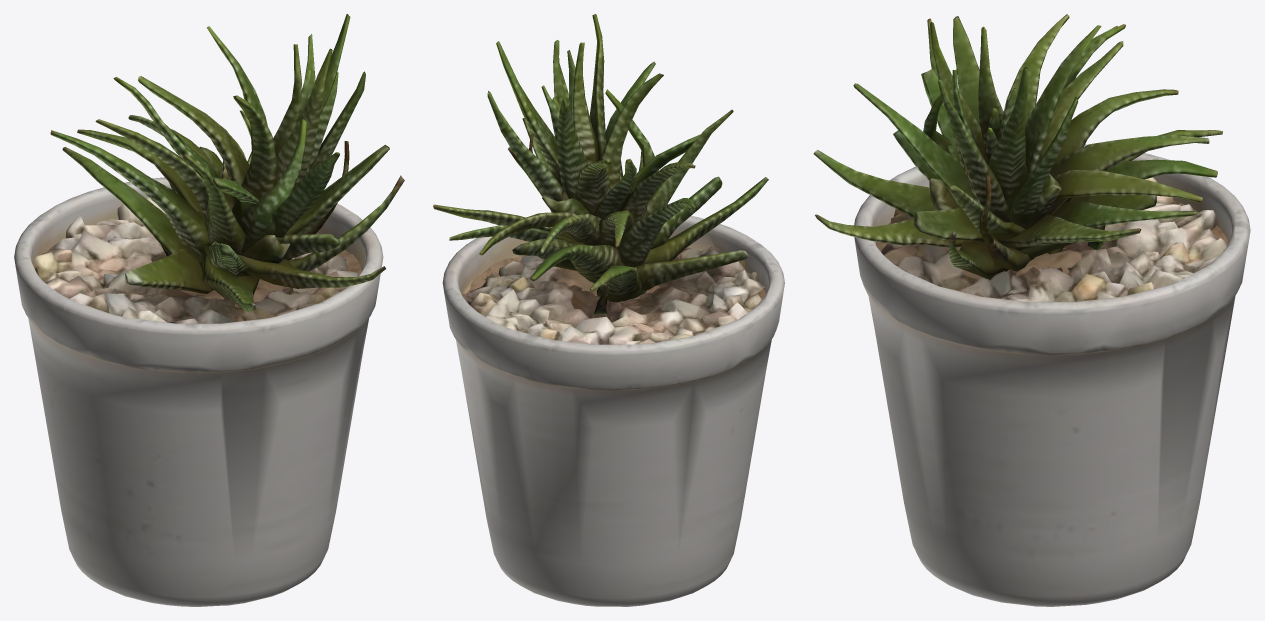
Rendered from potted_plant.glb.
3 renders of one model, left to right at view 1: azimuth 30°, elevation 25°; view 2: azimuth 150°, elevation 25°; view 3: azimuth 270°, elevation 25°, orthographic. The views are drawn at different scales.
Parts seen in each view (by area): view 1: potted_plant_04_ground; view 2: potted_plant_04_ground; view 3: potted_plant_04_ground.
Boxes of the visible parts, x1,y1,x2,y2 form: potted_plant_04_ground: (14,14,404,606); potted_plant_04_ground: (433,14,784,606); potted_plant_04_ground: (813,14,1250,606).
Bounding box in the file's own units: 0.1679 × 0.2675 × 0.1847.
Materials: 1 (1 with a texture image).
